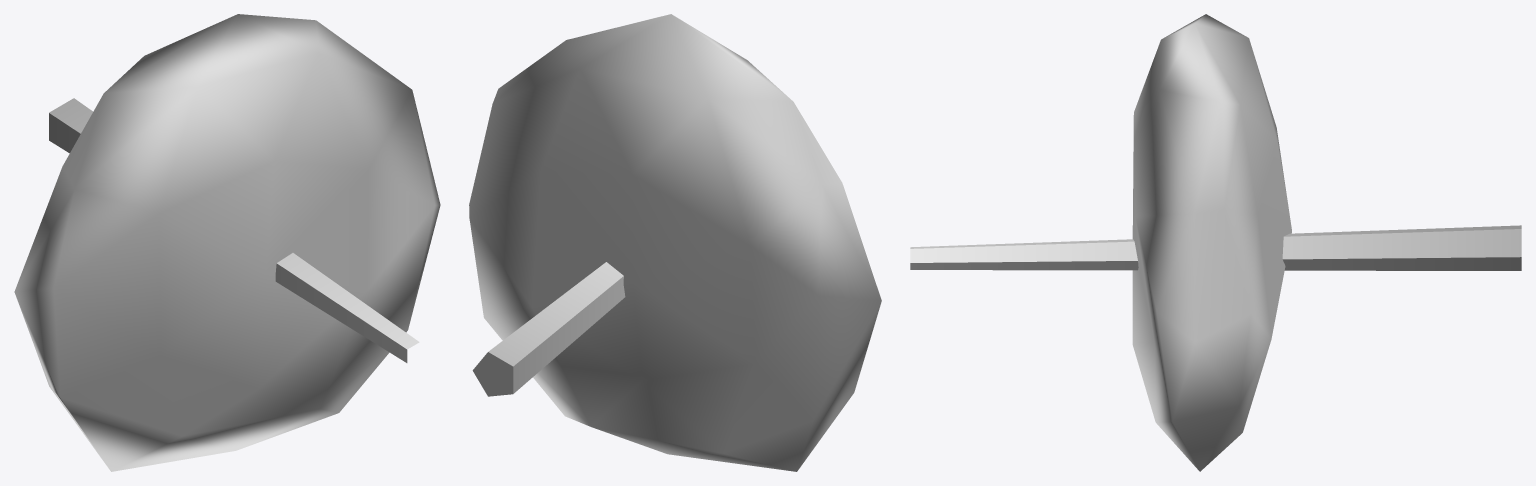
The model's file is SM_Pine_Black.glb.
3 views of the same model, side by side, from view 1: azimuth 30°, elevation 25°; view 2: azimuth 150°, elevation 25°; view 3: azimuth 270°, elevation 25° (orthographic). The views are drawn at different scales.
Visible parts, largest first — view 1: asset_pine_black; view 2: asset_pine_black; view 3: asset_pine_black.
Part boxes in pixels (box(x1,y1,x2,y2)): asset_pine_black: box(14, 14, 440, 471); asset_pine_black: box(469, 14, 881, 471); asset_pine_black: box(910, 14, 1521, 471).
Bounding box in the file's own units: 2.61 × 2.61 × 3.5.
2 materials, 2 textured.
